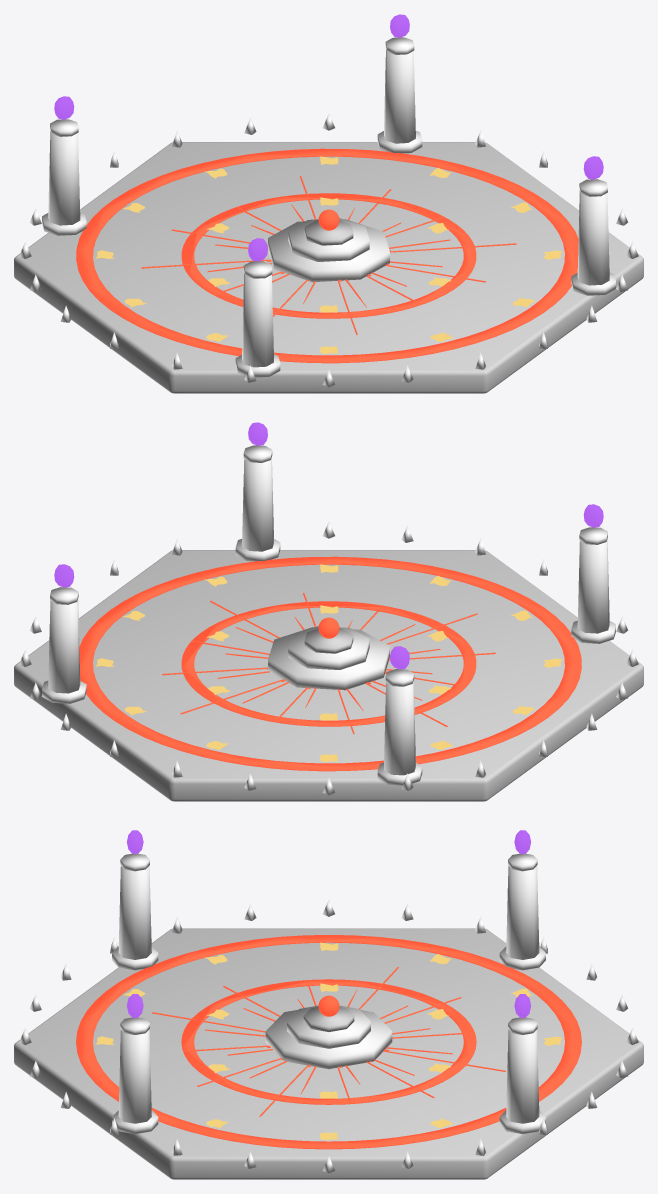
File: boss_platform.glb
3 renders of one model, top to bottom at view 1: azimuth 30°, elevation 25°; view 2: azimuth 150°, elevation 25°; view 3: azimuth 270°, elevation 25°, orthographic.
Visible parts, largest first — view 1: Boss_Floor_Base, Ritual_Ring_Outer, Ritual_Ring_Middle, Altar_Base, Pillar_Body.001, Pillar_Body.003, Pillar_Body, Pillar_Body.002, Altar_Mid, Altar_Top, Pillar_Base.001, Pillar_Base.003 (+2 smaller); view 2: Boss_Floor_Base, Ritual_Ring_Outer, Ritual_Ring_Middle, Altar_Base, Pillar_Body, Pillar_Body.002, Pillar_Body.001, Pillar_Body.003, Altar_Mid, Altar_Top, Pillar_Base, Pillar_Base.002 (+2 smaller); view 3: Boss_Floor_Base, Ritual_Ring_Outer, Ritual_Ring_Middle, Altar_Base, Pillar_Body, Pillar_Body.003, Pillar_Body.001, Pillar_Body.002, Altar_Mid, Altar_Top, Pillar_Base.001, Pillar_Base.002 (+2 smaller).
Part boxes in pixels (x1,y1,x2,y2): Boss_Floor_Base: (14,142,643,393); Ritual_Ring_Outer: (76,148,578,363); Ritual_Ring_Middle: (181,193,476,318); Altar_Base: (268,219,389,282); Pillar_Body.001: (48,131,80,225); Pillar_Body.003: (577,191,609,285); Pillar_Body: (384,49,415,143); Pillar_Body.002: (242,273,273,367); Altar_Mid: (288,218,369,261); Altar_Top: (304,220,353,245); Pillar_Base.001: (42,212,86,235); Pillar_Base.003: (571,272,615,295); Boss_Floor_Base: (14,550,643,801); Ritual_Ring_Outer: (79,556,581,771); Ritual_Ring_Middle: (181,601,476,726); Altar_Base: (268,627,389,690); Pillar_Body: (48,599,80,693); Pillar_Body.002: (577,539,609,633); Pillar_Body.001: (384,681,415,775); Pillar_Body.003: (242,457,273,551); Altar_Mid: (288,626,369,669); Altar_Top: (304,628,353,653); Pillar_Base: (42,680,86,703); Pillar_Base.002: (571,620,615,643); Boss_Floor_Base: (14,928,643,1179); Ritual_Ring_Outer: (76,935,581,1149); Ritual_Ring_Middle: (181,979,476,1104); Altar_Base: (265,1010,392,1069); Pillar_Body: (506,1029,539,1123); Pillar_Body.003: (118,1029,151,1123); Pillar_Body.001: (506,866,539,959); Pillar_Body.002: (118,866,151,959); Altar_Mid: (287,1005,370,1048); Altar_Top: (303,1007,354,1031); Pillar_Base.001: (499,946,545,970); Pillar_Base.002: (112,946,158,970).
Size of the model in its own units: 14.7 by 4 by 14.94.
